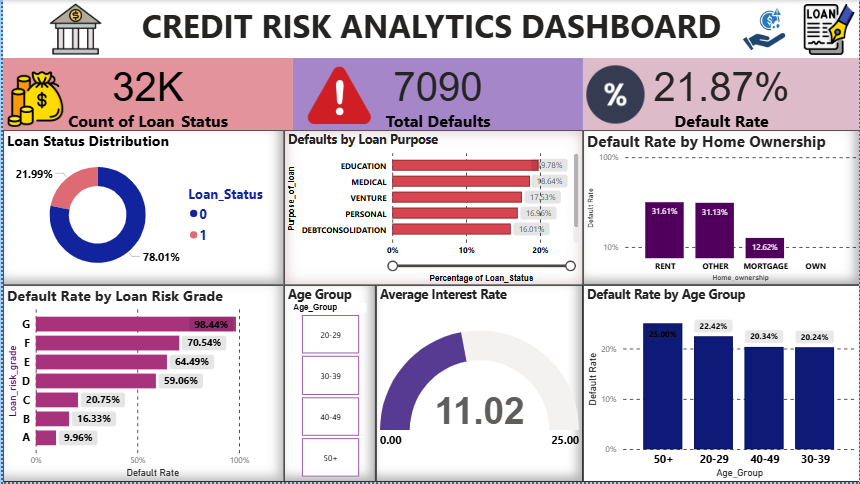

What the dashboard file says about the page in this screenshot:
{"tool":"powerbi","page":{"name":"Page 1","canvas":[1280,720],"ordinal":0},"visuals":[{"type":"textbox","box":[0,0,1280.2,86.6],"z":0},{"type":"card","fields":{"Values":["CountNonNull(credit_risk_final.Loan_Status)"]},"box":[0,86.6,433.2,107.6],"z":1000},{"type":"card","fields":{"Values":["credit_risk_final.Total Defaults"]},"box":[433.2,86.6,433.2,107.6],"z":2000},{"type":"card","fields":{"Values":["credit_risk_final.Default Rate"]},"box":[866.4,86.6,413.8,107.6],"z":3000},{"type":"barChart","title":"Default Rate by Loan Risk Grade","fields":{"Category":["credit_risk_final.Loan_risk_grade"],"Y":["credit_risk_final.Default Rate"]},"box":[0,425.7,419.8,294.3],"z":4000},{"type":"barChart","title":"Defaults by Loan Purpose","fields":{"Category":["credit_risk_final.Purpose_of_loan"],"Y":["Sum(credit_risk_final.Loan_Status)"]},"box":[419.8,194.2,446.6,231.5],"z":5000},{"type":"columnChart","title":"Default Rate by Home Ownership","fields":{"Category":["credit_risk_final.Home_ownership"],"Y":["credit_risk_final.Default Rate"]},"box":[866.4,194.2,413.8,231.5],"z":6000},{"type":"donutChart","title":"Loan Status Distribution","fields":{"Category":["credit_risk_final.Loan_Status"],"Y":["CountNonNull(credit_risk_final.Interest_rate)"]},"box":[0,194.2,419.8,231.5],"z":7000},{"type":"columnChart","title":"Default Rate by Age Group","fields":{"Category":["credit_risk_final.Age_Group"],"Y":["credit_risk_final.Default Rate"]},"box":[866.4,425.7,413.8,294.3],"z":8000},{"type":"slicer","title":"Age Group","fields":{"Values":["credit_risk_final.Age_Group"]},"box":[419.8,425.7,137.4,294.3],"z":9000},{"type":"image","box":[0,0,216.6,86.6],"z":9001},{"type":"image","box":[1187.6,0,92.6,86.6],"z":9002},{"type":"image","box":[0,101.6,97.1,92.6],"z":9003},{"type":"image","box":[446.6,89.6,110.5,104.6],"z":9004},{"type":"image","box":[866.4,92.6,97.1,97.1],"z":9005},{"type":"image","box":[1096.4,0,80.7,86.6],"z":9006},{"type":"gauge","title":"Average Interest Rate","fields":{"Y":["Avg(credit_risk_final.Interest_rate)"]},"box":[557.2,425.7,309.2,294.3],"z":9007}]}

Visuals, with their boxes in screenshot pixels (x1, y1, x2, y2), scaled from the page's 1280x720 canvas onto the 860x484 screenshot:
textbox: {"x1": 0, "y1": 0, "x2": 859, "y2": 58}
card - CountNonNull(credit_risk_final.Loan_Status): {"x1": 0, "y1": 58, "x2": 291, "y2": 131}
card - credit_risk_final.Total Defaults: {"x1": 291, "y1": 58, "x2": 582, "y2": 131}
card - credit_risk_final.Default Rate: {"x1": 582, "y1": 58, "x2": 859, "y2": 131}
"Default Rate by Loan Risk Grade" barChart: {"x1": 0, "y1": 286, "x2": 282, "y2": 483}
"Defaults by Loan Purpose" barChart: {"x1": 282, "y1": 131, "x2": 582, "y2": 286}
"Default Rate by Home Ownership" columnChart: {"x1": 582, "y1": 131, "x2": 859, "y2": 286}
"Loan Status Distribution" donutChart: {"x1": 0, "y1": 131, "x2": 282, "y2": 286}
"Default Rate by Age Group" columnChart: {"x1": 582, "y1": 286, "x2": 859, "y2": 483}
"Age Group" slicer: {"x1": 282, "y1": 286, "x2": 374, "y2": 483}
image: {"x1": 0, "y1": 0, "x2": 146, "y2": 58}
image: {"x1": 798, "y1": 0, "x2": 859, "y2": 58}
image: {"x1": 0, "y1": 68, "x2": 65, "y2": 131}
image: {"x1": 300, "y1": 60, "x2": 374, "y2": 131}
image: {"x1": 582, "y1": 62, "x2": 647, "y2": 128}
image: {"x1": 737, "y1": 0, "x2": 791, "y2": 58}
"Average Interest Rate" gauge: {"x1": 374, "y1": 286, "x2": 582, "y2": 483}
